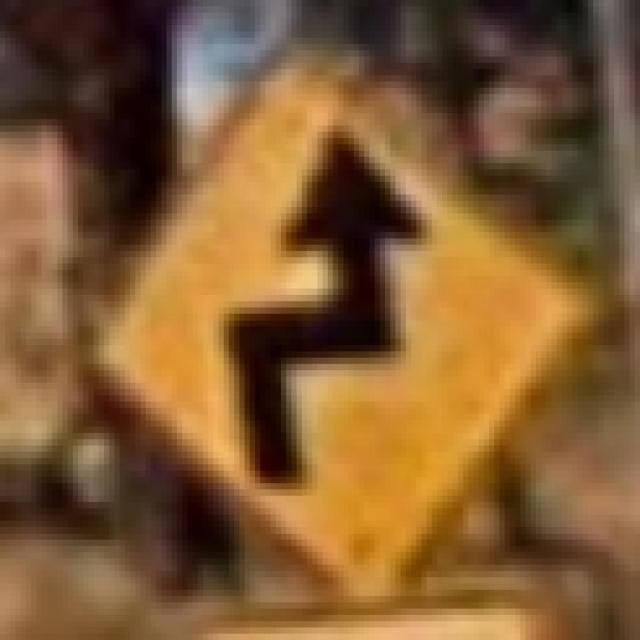Tikungan Ganda Pertama Ke Kanan: (83, 37, 578, 590)
